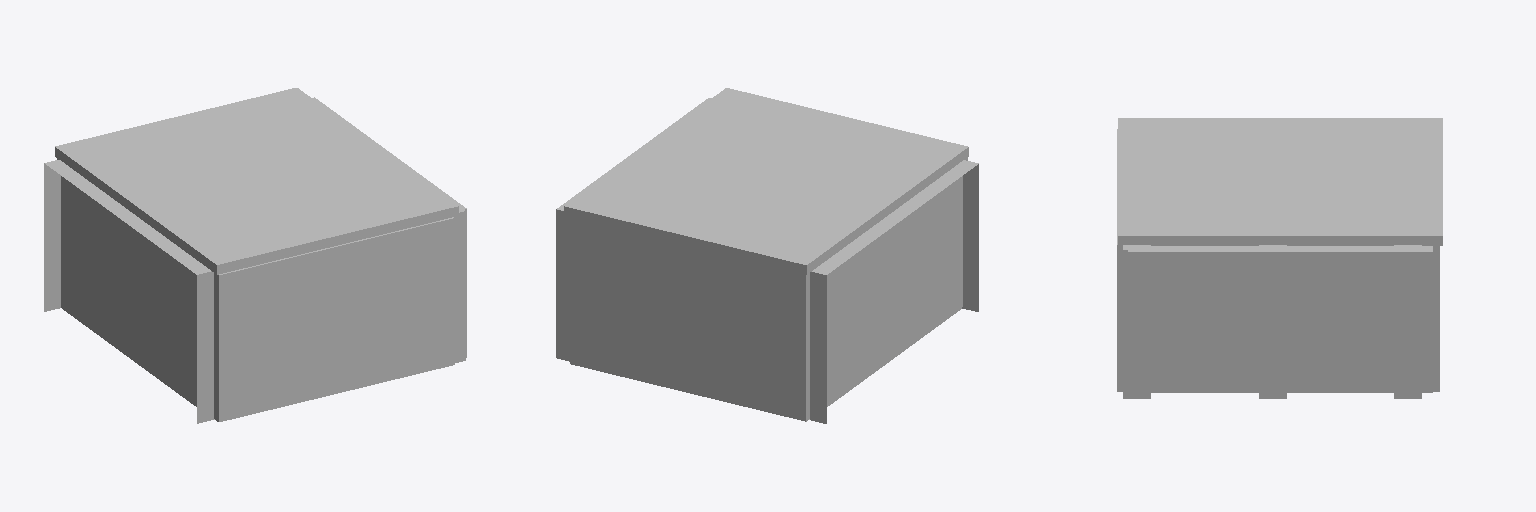
The model's file is shepherd_bar_export.obj.
The picture shows the model from 3 angles: view 1: azimuth 30°, elevation 25°; view 2: azimuth 150°, elevation 25°; view 3: azimuth 270°, elevation 25°; orthographic projection.
Visible parts, largest first — view 1: Cube.004_Cube.020, Cube.003_Cube.006, Plane, Cube.006_Cube.010; view 2: Cube.004_Cube.020, Cube.002_Cube.005, Plane; view 3: Cube.004_Cube.020, Plane, Cube.006_Cube.010, Cube.005_Cube.026, Cube.007_Cube.027, Cube.002_Cube.005, Cube.003_Cube.006.
Part boxes in pixels (x1,y1,x2,y2): Cube.004_Cube.020: (55, 88, 458, 274); Cube.003_Cube.006: (214, 217, 454, 421); Plane: (44, 97, 466, 423); Cube.006_Cube.010: (454, 205, 465, 362); Cube.004_Cube.020: (564, 88, 968, 274); Cube.002_Cube.005: (570, 218, 809, 421); Plane: (556, 98, 978, 423); Cube.004_Cube.020: (1118, 118, 1442, 245); Plane: (1128, 246, 1432, 392); Cube.006_Cube.010: (1123, 245, 1150, 398); Cube.005_Cube.026: (1259, 245, 1286, 398); Cube.007_Cube.027: (1394, 245, 1421, 398); Cube.002_Cube.005: (1433, 246, 1439, 391); Cube.003_Cube.006: (1117, 129, 1122, 391).
Size of the model in its own units: 14.78 by 8.28 by 15.38.